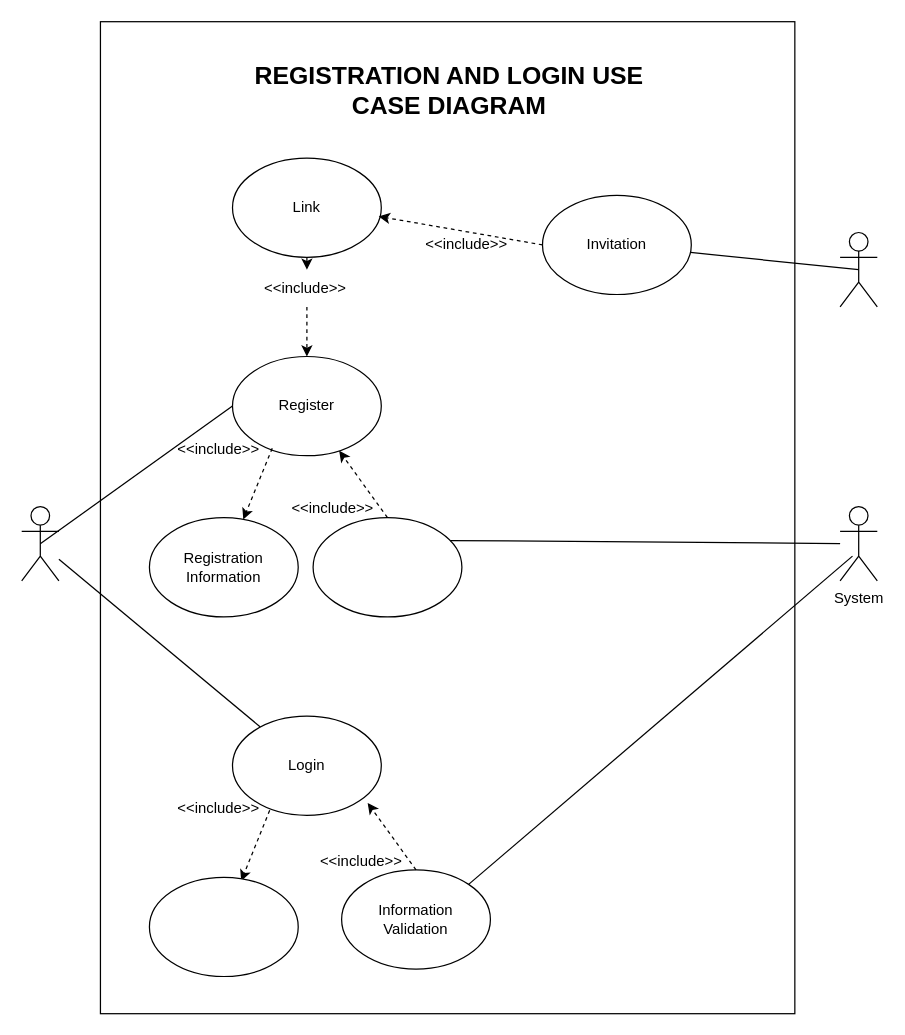
Some shapes in this 905 by 1035 pixel diagram are drawn without their labels. Here are the shapes that lost their labels. From the top down, the centre of each, then its label:
At (x=858, y=269): "Owner".
At (x=39, y=543): "User".
At (x=387, y=566): "Account Creation".
At (x=223, y=926): "Login Credentials".
